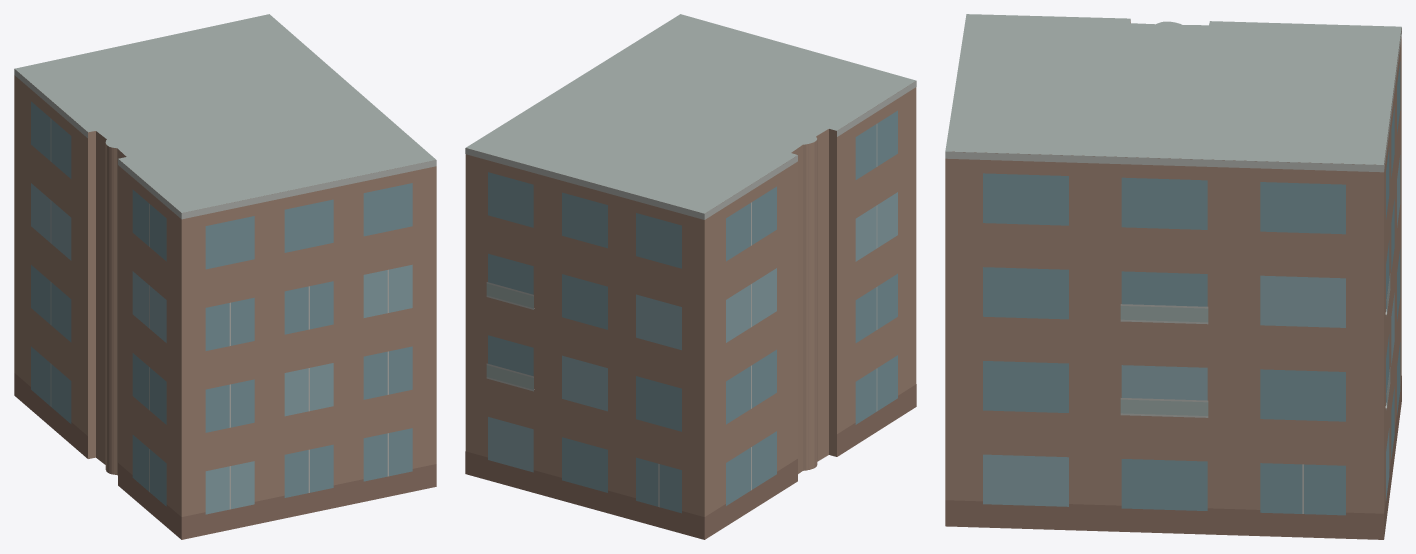
Rendered from survey-upis-32904592.glb.
3 views of the same model, side by side, from view 1: azimuth 30°, elevation 25°; view 2: azimuth 150°, elevation 25°; view 3: azimuth 270°, elevation 25° (orthographic). The views are drawn at different scales.
Parts seen in each view (by area): view 1: survey-upis-32904592.tmp; view 2: survey-upis-32904592.tmp; view 3: survey-upis-32904592.tmp.
Part boxes in pixels (x1=…): survey-upis-32904592.tmp: x1=14, y1=14, x2=436, y2=539; survey-upis-32904592.tmp: x1=465, y1=14, x2=916, y2=539; survey-upis-32904592.tmp: x1=945, y1=14, x2=1401, y2=539.
Size of the model in its own units: 10.9 by 12.6 by 13.92.
